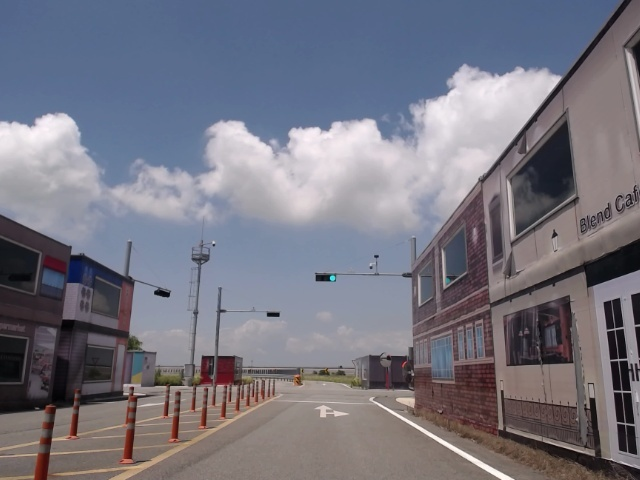green_3: (316, 275, 336, 281)
